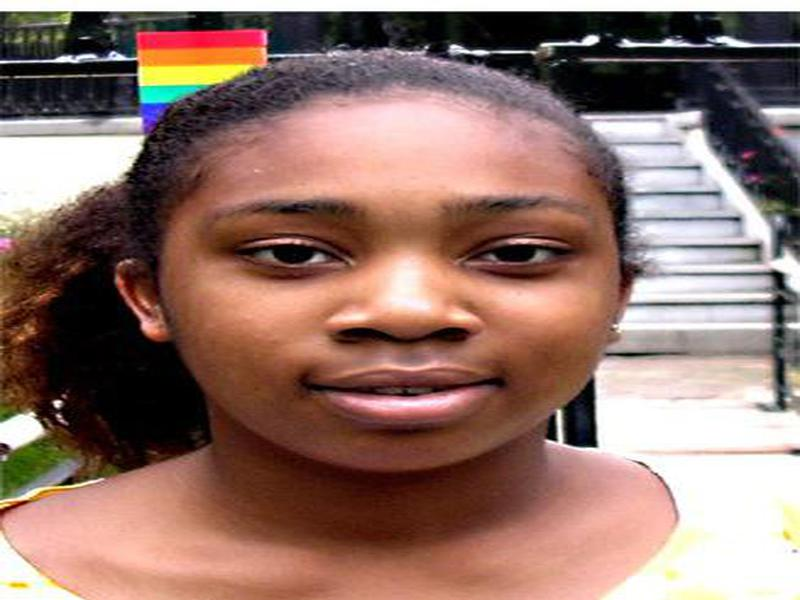without_mask: (159, 133, 614, 474)
